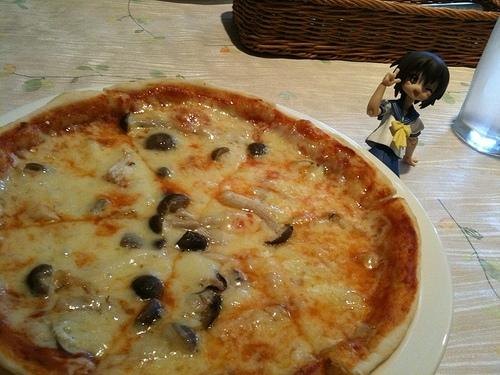mushroom: (218, 190, 292, 245), (47, 320, 94, 360), (150, 215, 198, 234), (134, 298, 164, 326), (131, 276, 164, 300), (27, 264, 53, 294), (172, 322, 198, 352), (156, 194, 192, 215), (200, 296, 222, 330), (176, 230, 207, 252), (146, 133, 176, 151), (120, 232, 145, 250), (89, 197, 110, 216), (248, 142, 272, 156), (210, 147, 230, 161), (118, 114, 130, 134), (25, 162, 44, 170)
